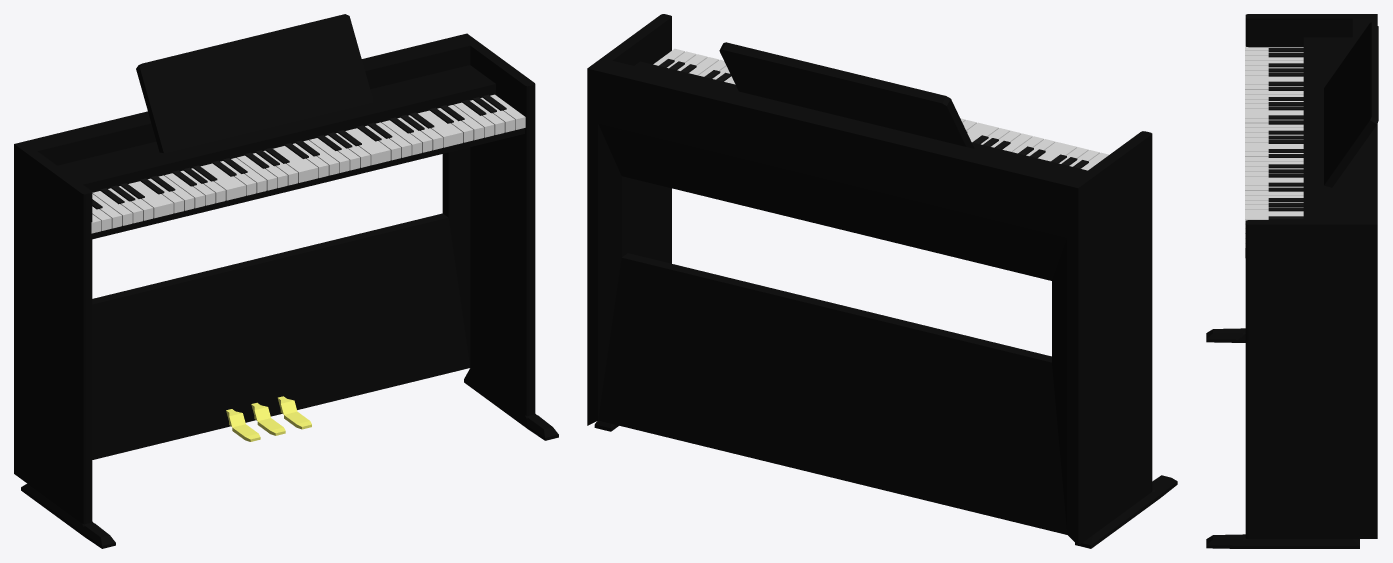
Rendered from Piano5.fbx.
3 views of the same model, side by side, from view 1: azimuth 30°, elevation 25°; view 2: azimuth 150°, elevation 25°; view 3: azimuth 270°, elevation 25° (orthographic). The views are drawn at different scales.
Parts seen in each view (by area): view 1: 49keysmidi.031; view 2: 49keysmidi.031; view 3: 49keysmidi.031.
Part boxes in pixels (x1,y1,x2,y2): 49keysmidi.031: (14,14,558,548); 49keysmidi.031: (587,14,1177,548); 49keysmidi.031: (1206,14,1378,548).
Bounding box in the file's own units: 139 × 114 × 47.63.
